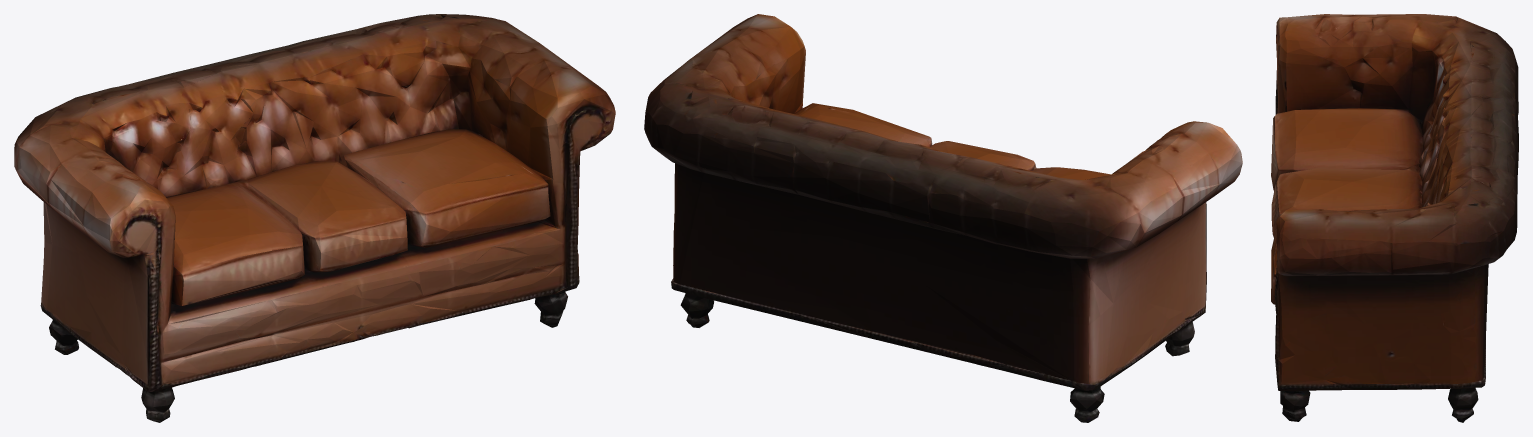
File: chesterfield.glb
3 renders of one model, left to right at view 1: azimuth 30°, elevation 25°; view 2: azimuth 150°, elevation 25°; view 3: azimuth 270°, elevation 25°, orthographic. The views are drawn at different scales.
Parts seen in each view (by area): view 1: world; view 2: world; view 3: world.
Boxes of the visible parts, bbox=[...] form: world: bbox=[14, 14, 615, 422]; world: bbox=[644, 14, 1242, 422]; world: bbox=[1271, 14, 1518, 422].
Size of the model in its own units: 0.997 by 0.4506 by 0.4593.
Materials: 1 (1 with a texture image).
